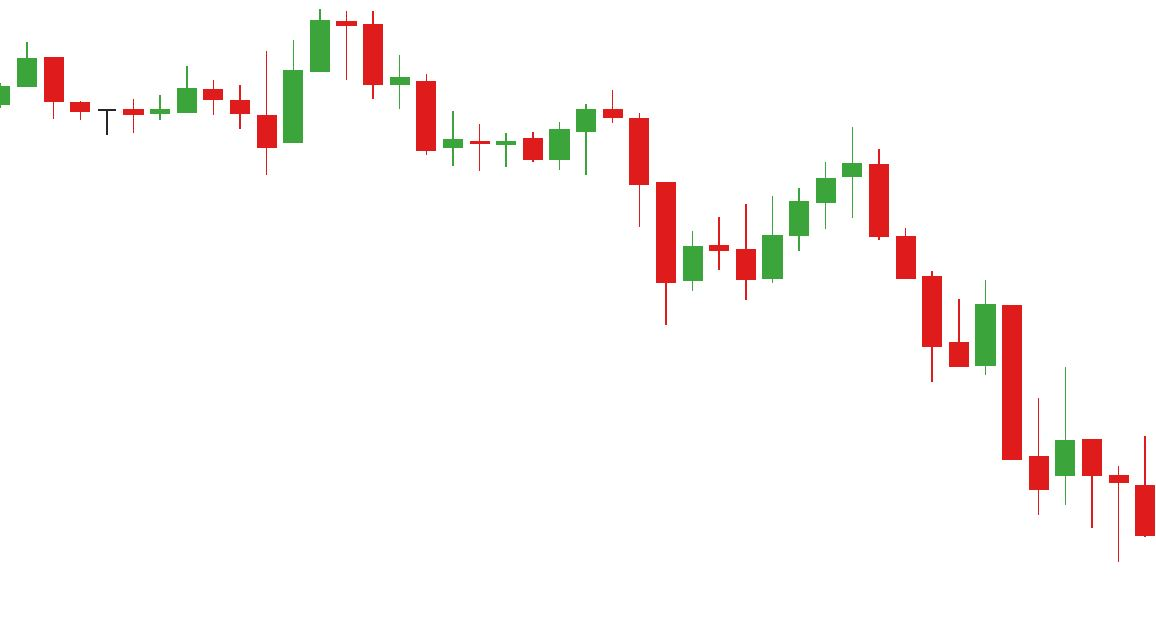sell: (170, 10, 390, 120)
